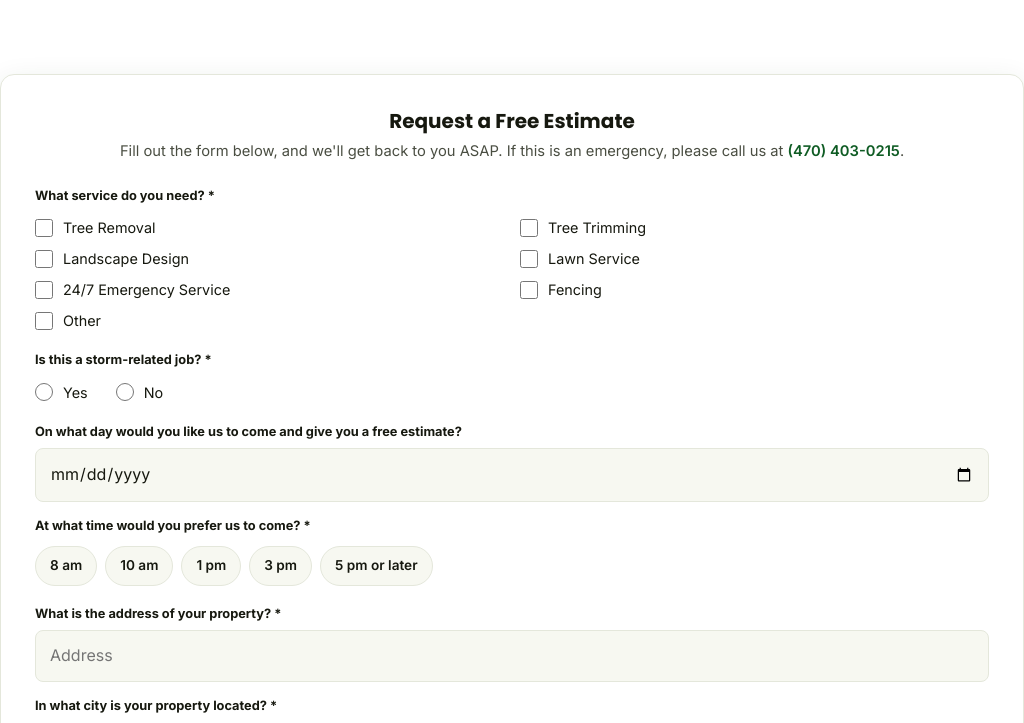
Scenario: EstimateForm › submits a complete request and thanks the visitor
The width and height of the screenshot is (1024, 723).
Click the checkbox labelled "Tree Removal".
click(44, 228)  # box x1=35 y1=218 x2=53 y2=236
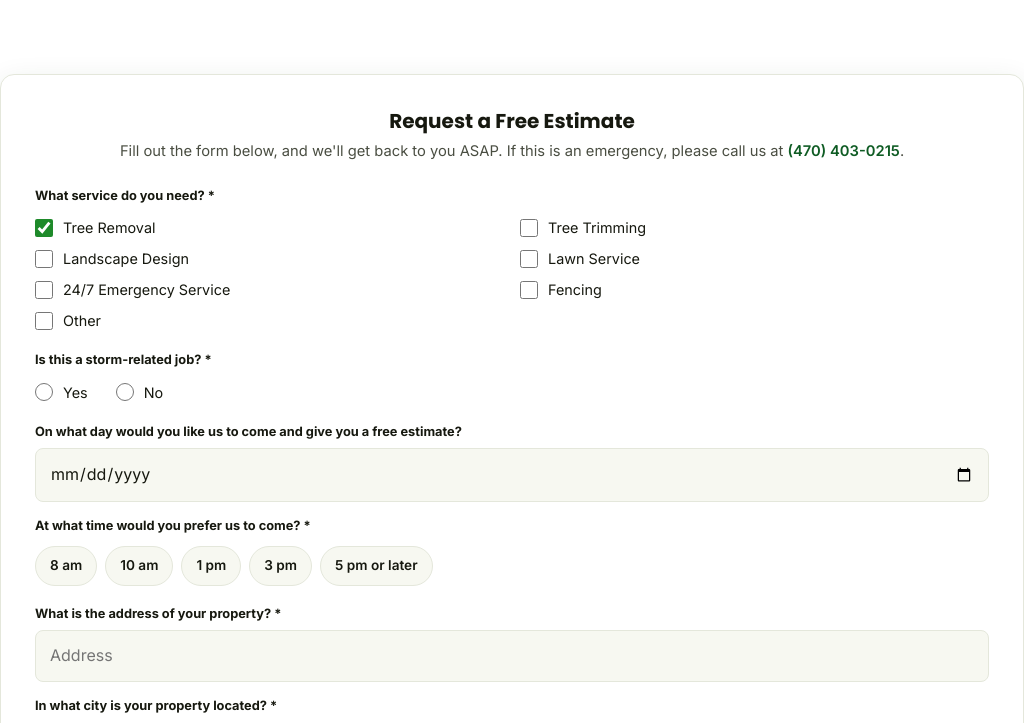
Click the radio button labelled "No".
click(125, 392)  # box x1=116 y1=383 x2=134 y2=401
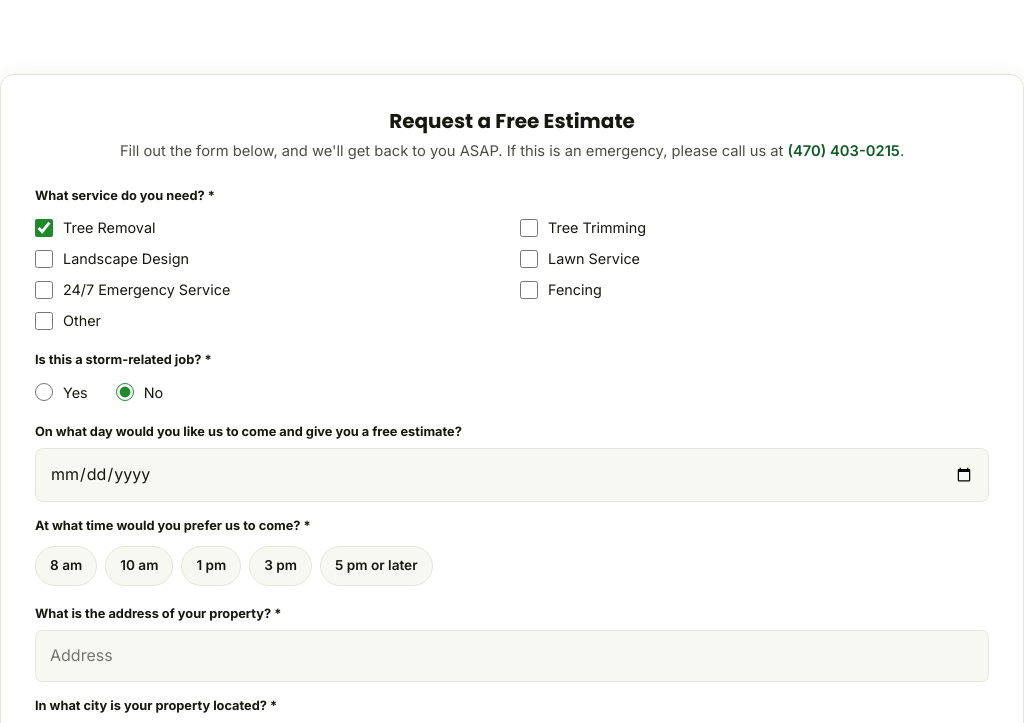
Click the checkbox labelled "10 am".
click(139, 566)  # box x1=105 y1=546 x2=173 y2=586
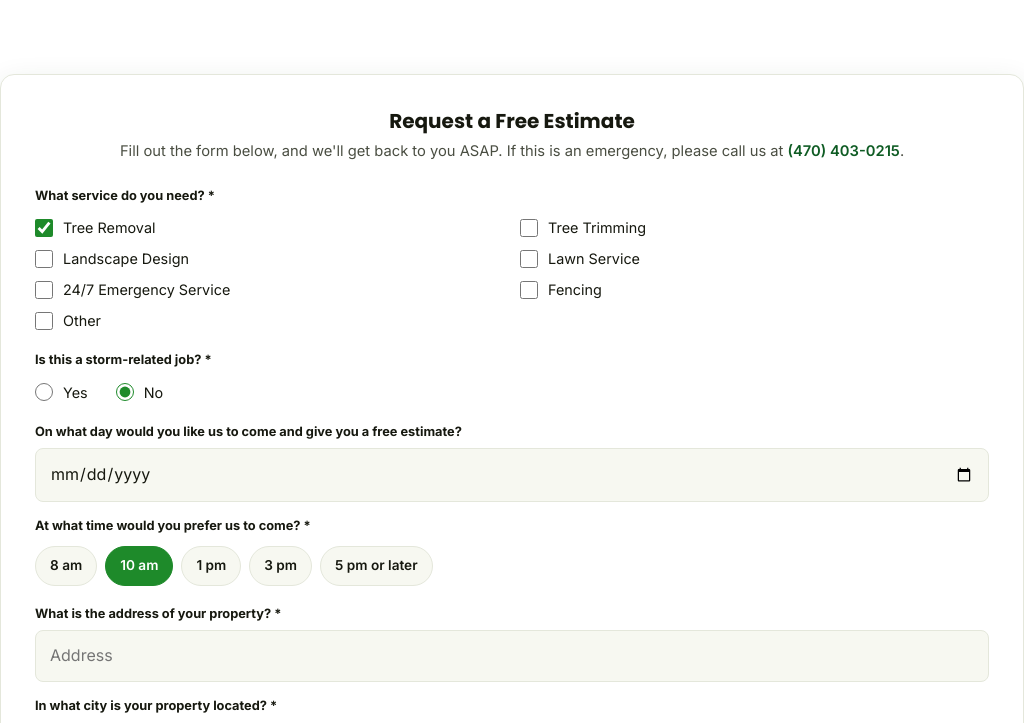
Type "123 Oak St" into the field labelled "What is the address of your property? *".
click(512, 656); type("123 Oak St")  # box x1=35 y1=630 x2=989 y2=682
(page scrolled)
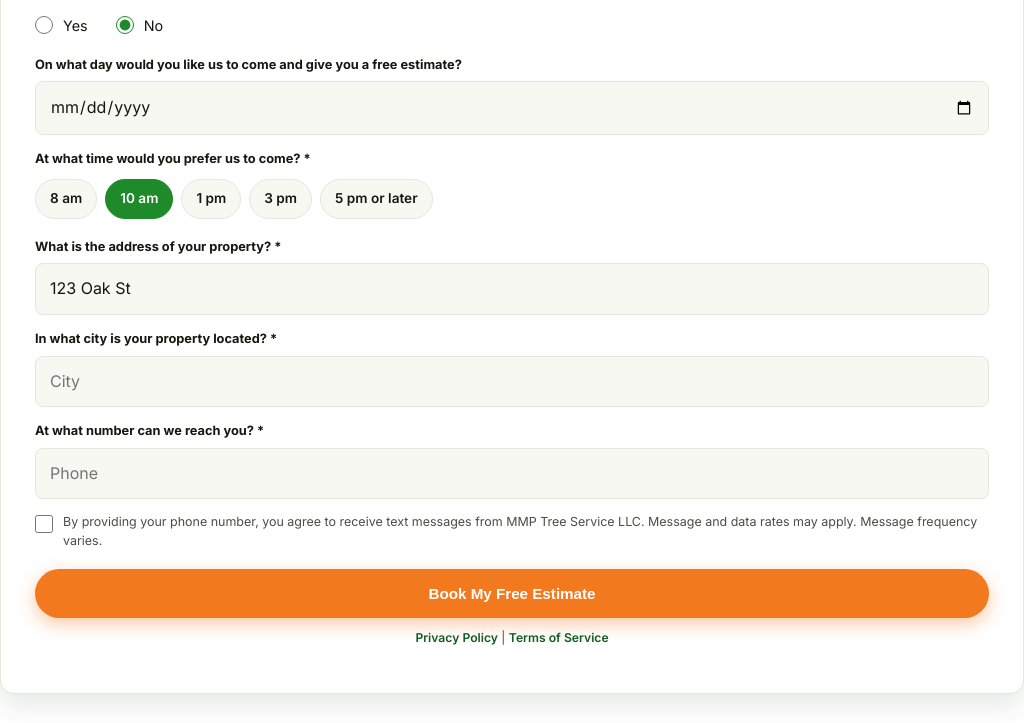
Type "Canton" into the field labelled "In what city is your property located? *".
click(512, 381); type("Canton")  # box x1=35 y1=356 x2=989 y2=407
Type "4704030215" into the field labelled "At what number can we reach you? *".
click(512, 473); type("4704030215")  # box x1=35 y1=448 x2=989 y2=499
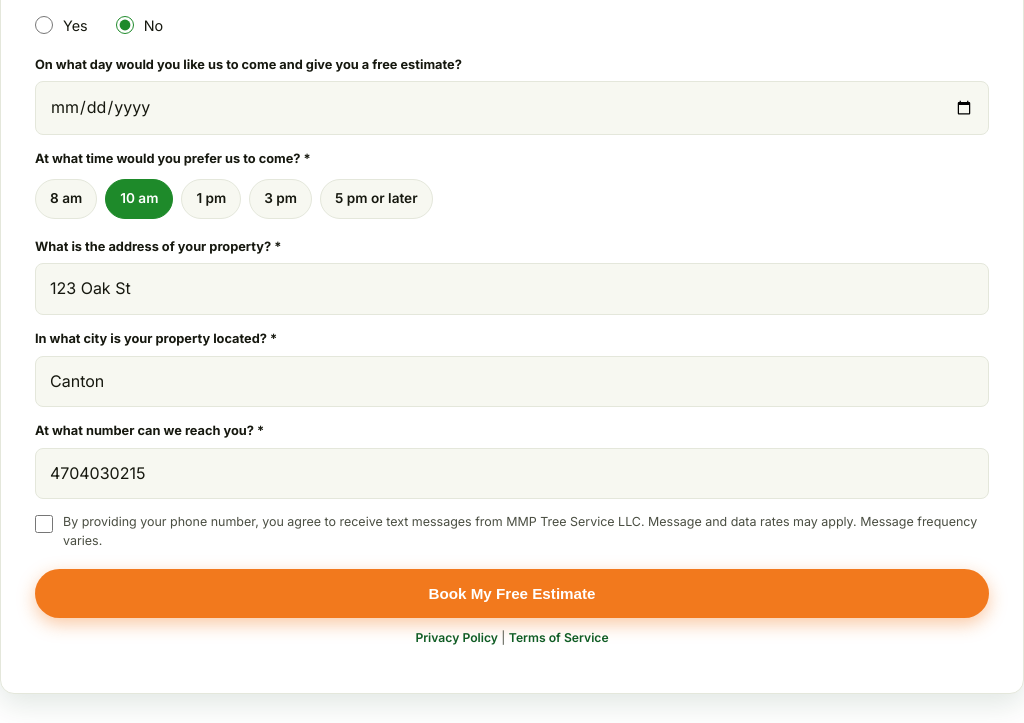
Click the button "Book My Free Estimate".
click(512, 593)  # box x1=35 y1=569 x2=989 y2=618
(page scrolled)
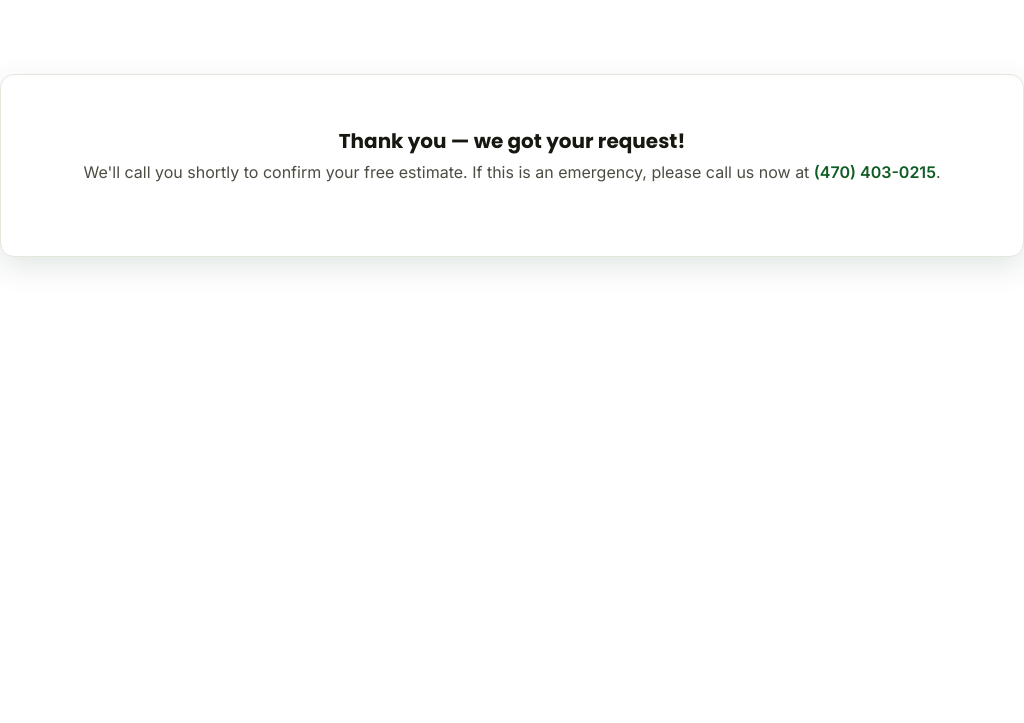
expect the heading "Thank you — we got your request!" is shown: met, box x1=339 y1=127 x2=685 y2=155
